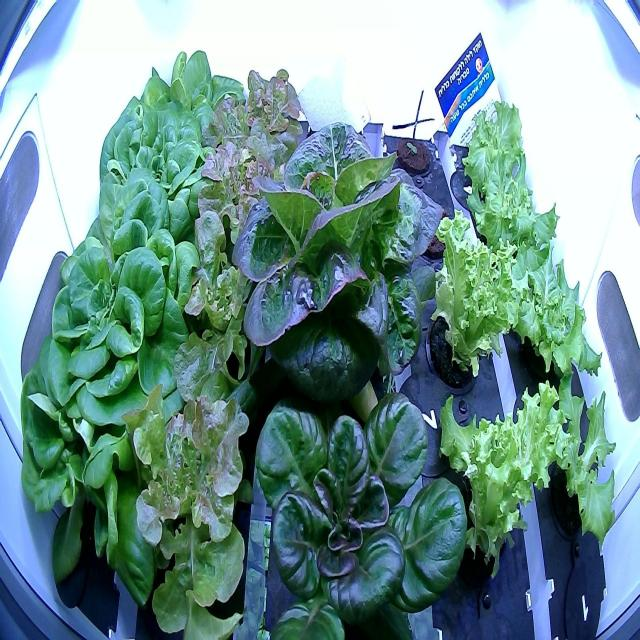Ready: (226, 110, 449, 436), (11, 327, 168, 606), (36, 203, 216, 444), (86, 96, 239, 245), (110, 29, 251, 165)
germination: (387, 120, 440, 188)
young: (220, 384, 476, 638)
